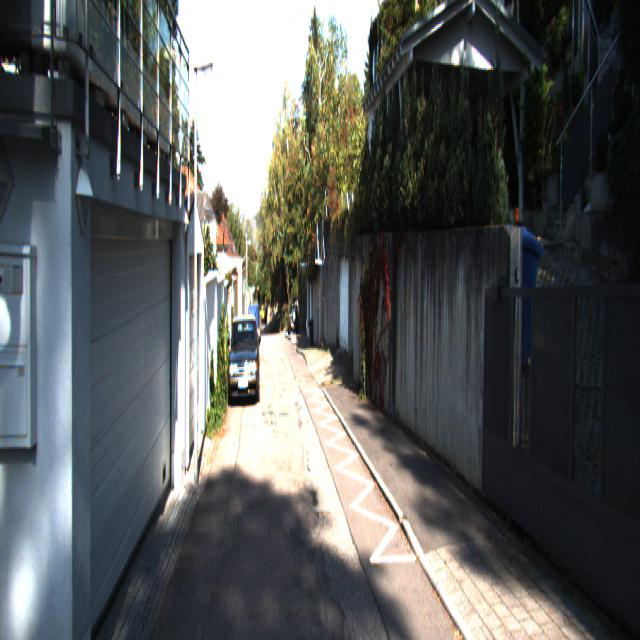Car: (227, 314, 259, 411)
